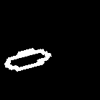chain: (5, 48, 50, 70)
